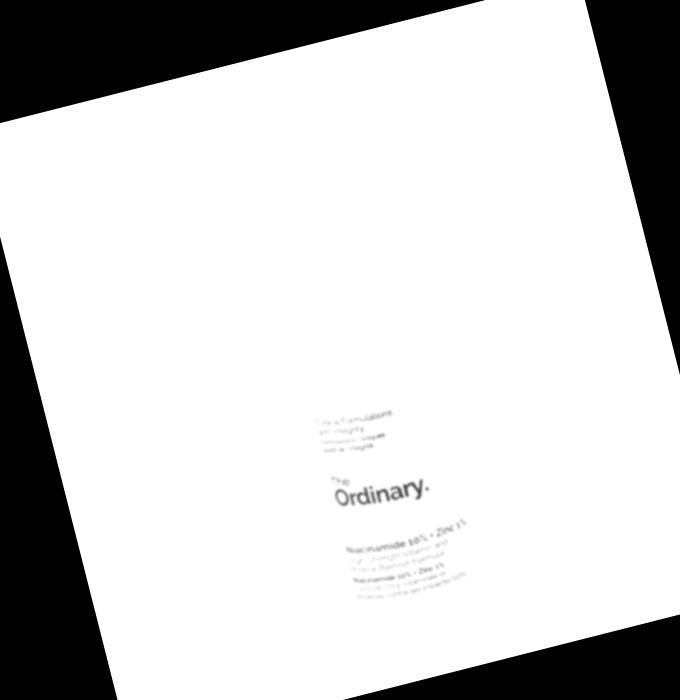cosmetic: (217, 77, 528, 659)
